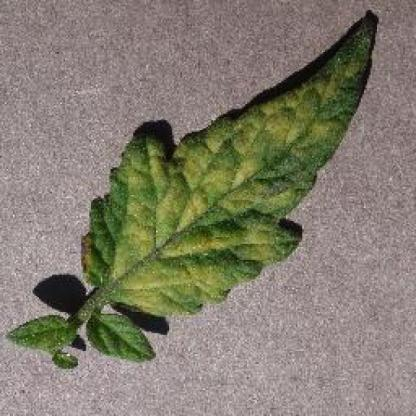Tomato_Leaf_Mold: (83, 14, 377, 313)
